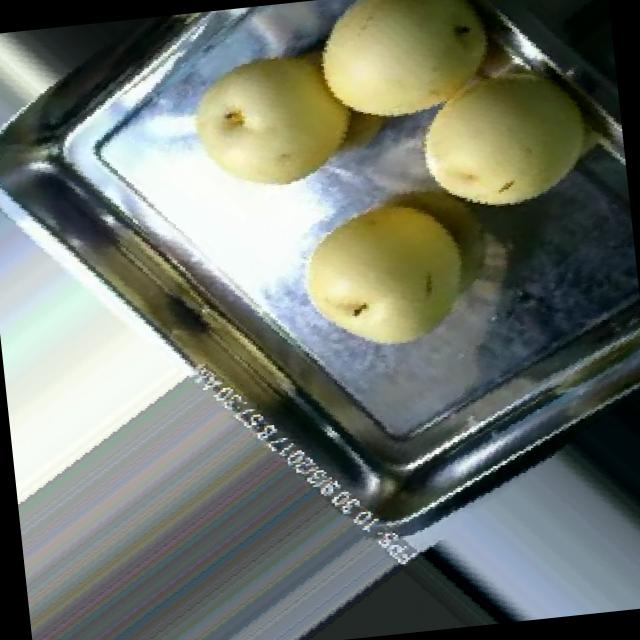Fruit: (271, 160, 509, 388), (386, 30, 630, 246), (168, 20, 376, 212), (296, 0, 522, 152)
